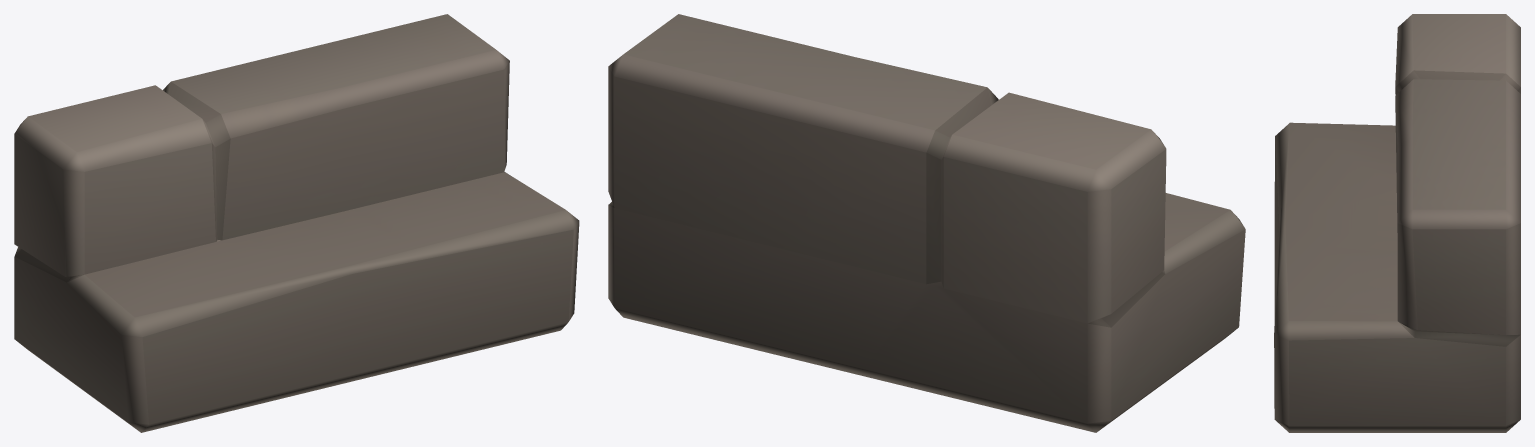
Rendered from elf_stairs_half_2_shade_5.fbx.
3 views of the same model, side by side, from view 1: azimuth 30°, elevation 25°; view 2: azimuth 150°, elevation 25°; view 3: azimuth 270°, elevation 25° (orthographic). The views are drawn at different scales.
Visible parts, largest first — view 1: elf_stairs_half_2_shade_5; view 2: elf_stairs_half_2_shade_5; view 3: elf_stairs_half_2_shade_5.
Part boxes in pixels (bbox=[...]): elf_stairs_half_2_shade_5: bbox=[14, 14, 579, 432]; elf_stairs_half_2_shade_5: bbox=[608, 14, 1245, 432]; elf_stairs_half_2_shade_5: bbox=[1274, 14, 1520, 432].
Bounding box in the file's own units: 102 × 50.51 × 50.1.
